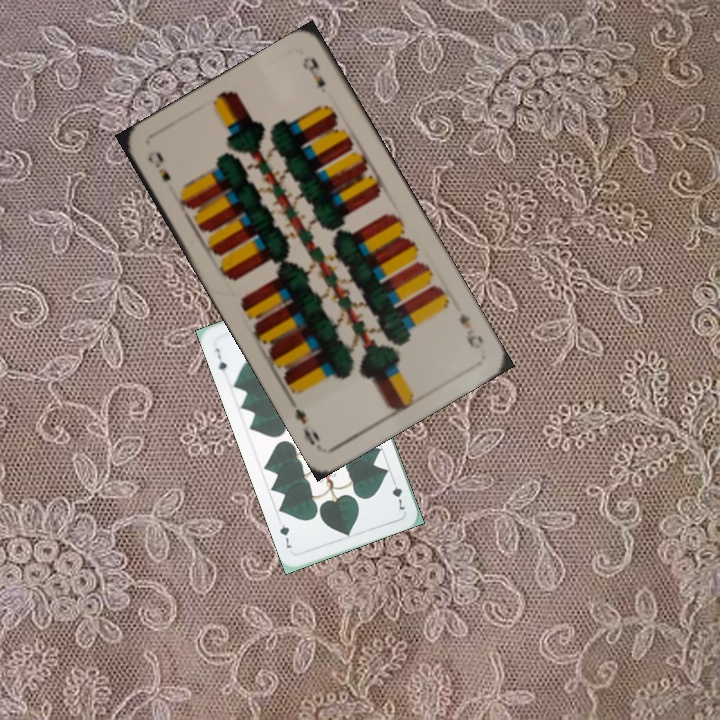E9: (455, 308, 486, 351), (143, 147, 174, 185)
G7: (388, 474, 408, 513), (211, 344, 230, 374)
